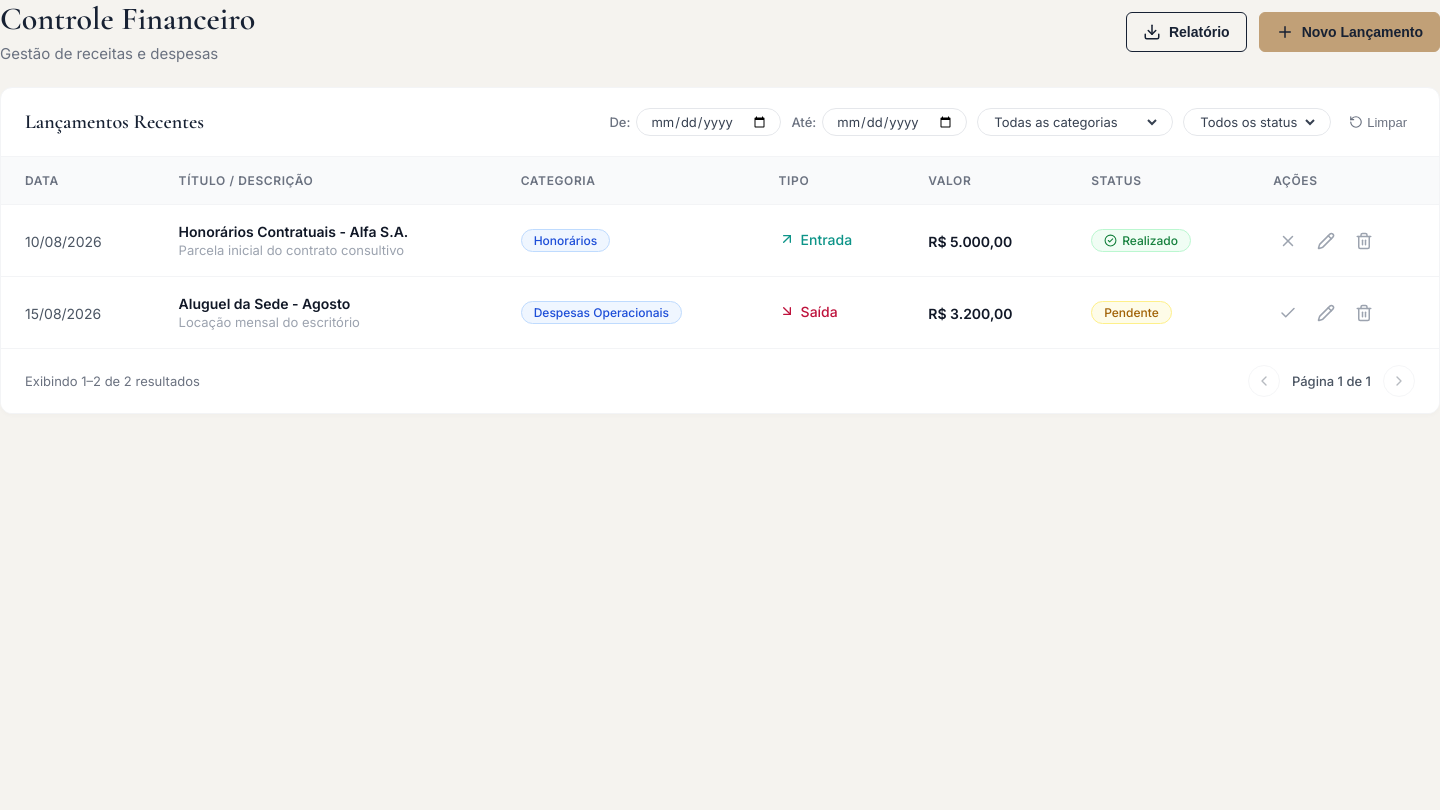
it: Financas Integration Tests (Full Frontend Stack) › exibe a mensagem de erro apropriada na UI quando ocorre: Erro 500 ao excluir lançamento (DELETE /lancamentos/:id)
Check: the text "Honorários Contratuais - Alfa S.A." is shown, box x1=179 y1=223 x2=408 y2=240
Click the button named "Excluir lançamento" in the row of "10/08/2026" at (1364, 241), box x1=1349 y1=226 x2=1379 y2=256
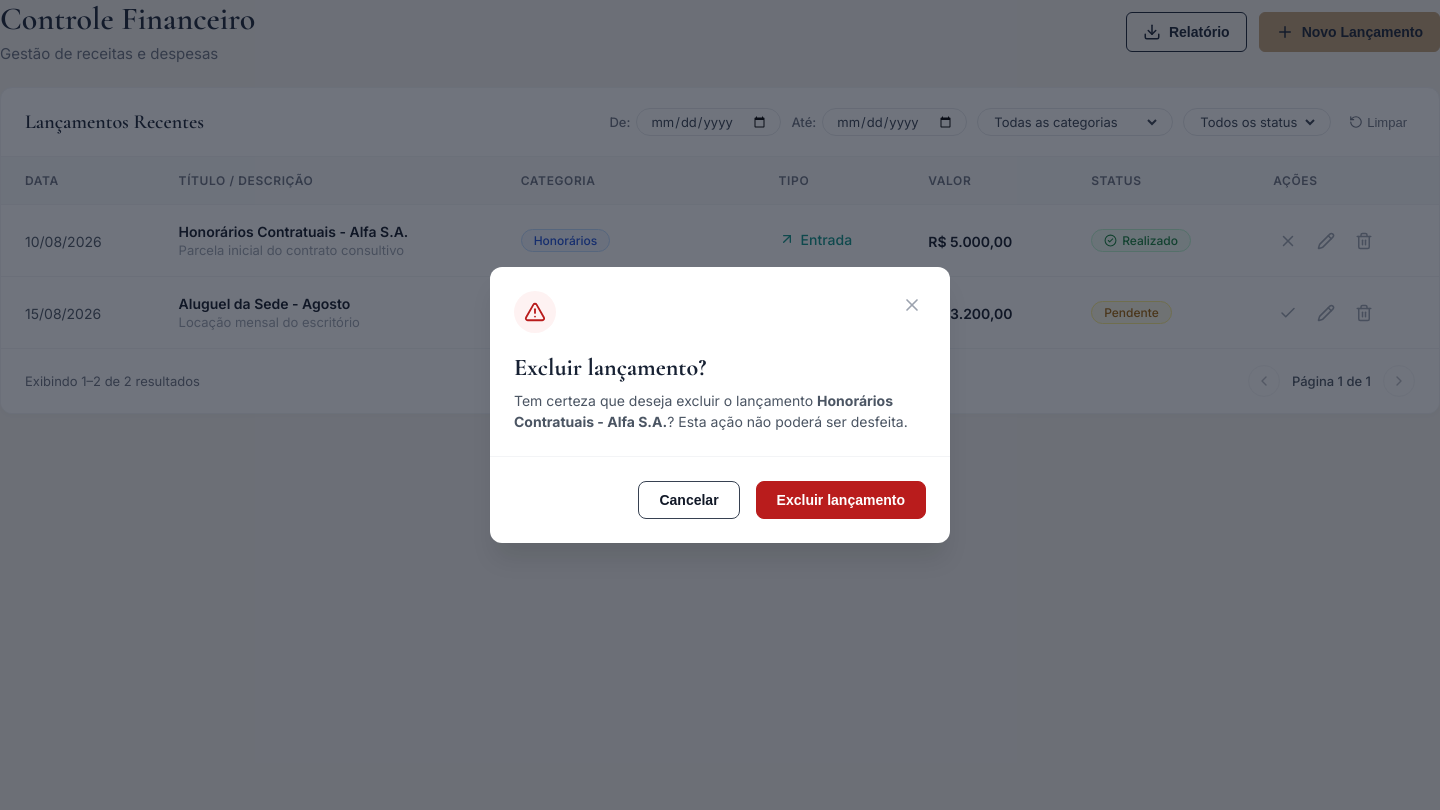
Click the button "Excluir lançamento" at (841, 500), box x1=756 y1=481 x2=926 y2=519
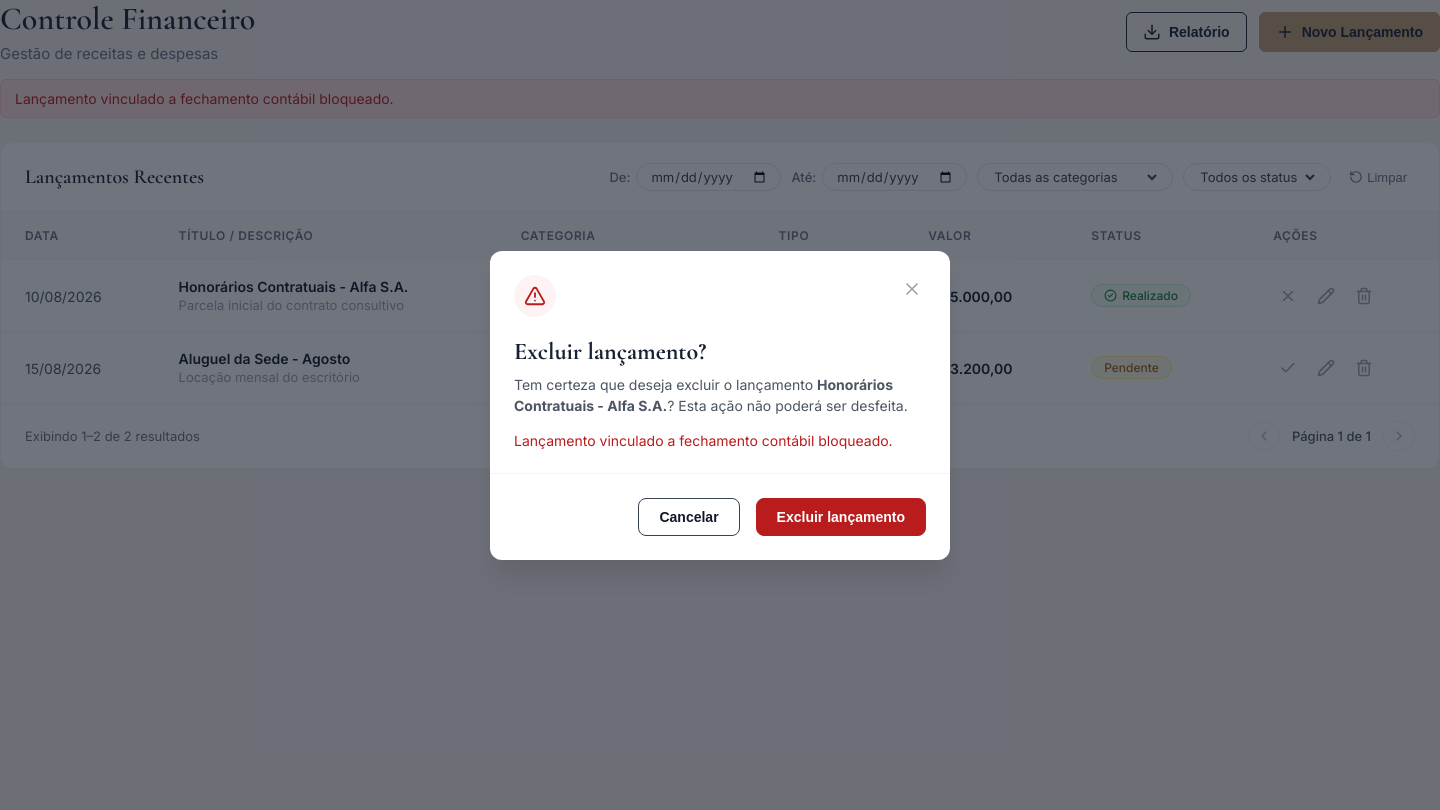
Check: the message reads "Lançamento vinculado a fechamento contábil bloqueado.", box x1=15 y1=90 x2=394 y2=107
